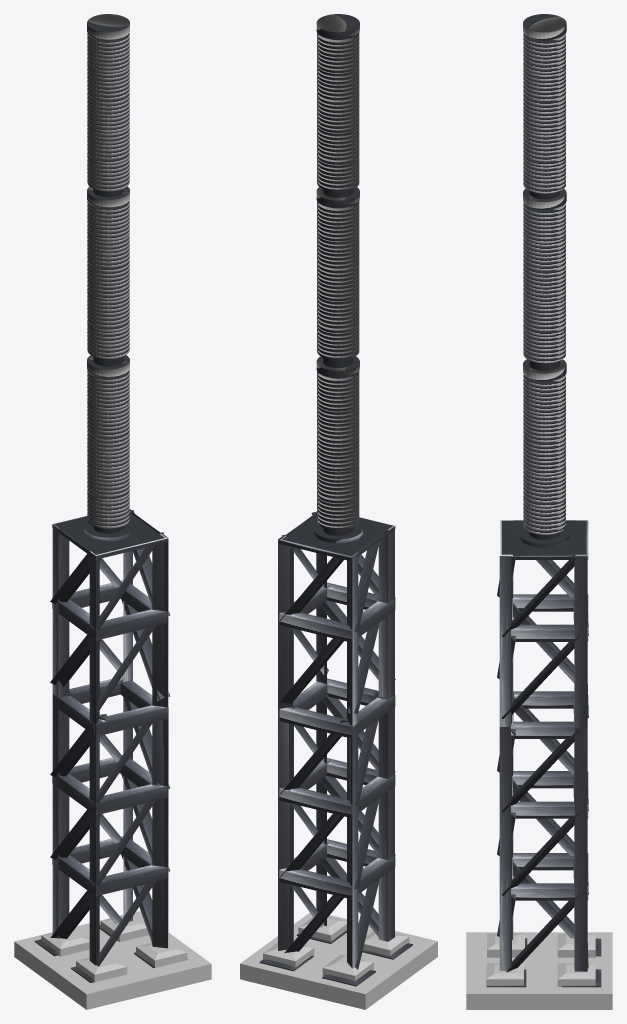
File: torreFaltante.fbx
The picture shows the model from 3 angles, left to right: view 1: azimuth 30°, elevation 25°; view 2: azimuth 150°, elevation 25°; view 3: azimuth 270°, elevation 25°; orthographic projection.
Parts seen in each view (by area): view 1: Cylinder.010; view 2: Cylinder.010; view 3: Cylinder.010.
Part boxes in pixels (x1,y1,x2,y2): Cylinder.010: [14, 14, 211, 1009]; Cylinder.010: [240, 14, 437, 1009]; Cylinder.010: [466, 14, 612, 1009].
Bounding box in the file's own units: 97 × 700 × 97.
